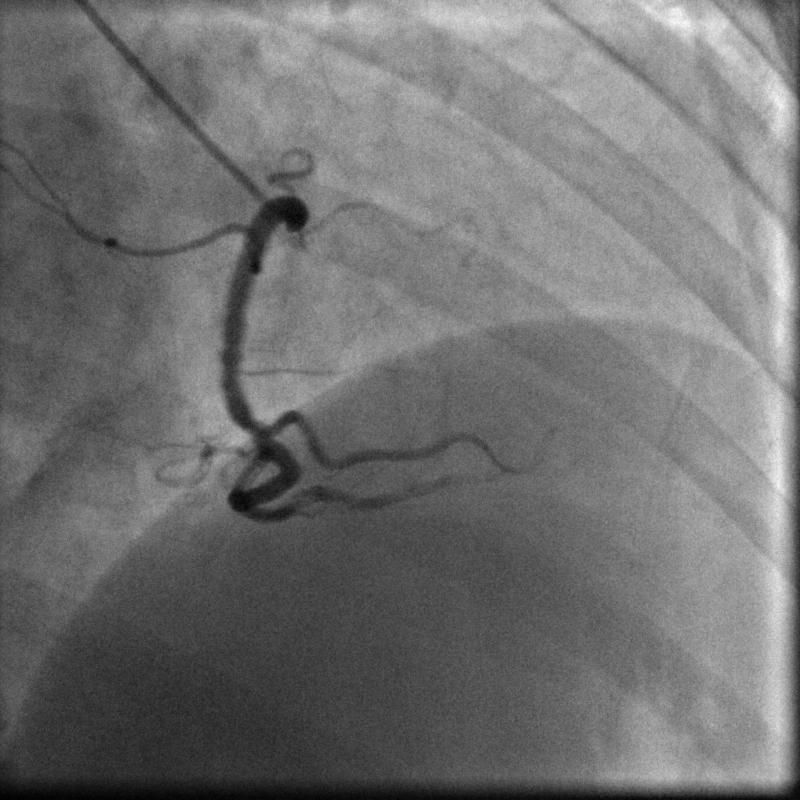Stenosis: (228, 415, 279, 444)
